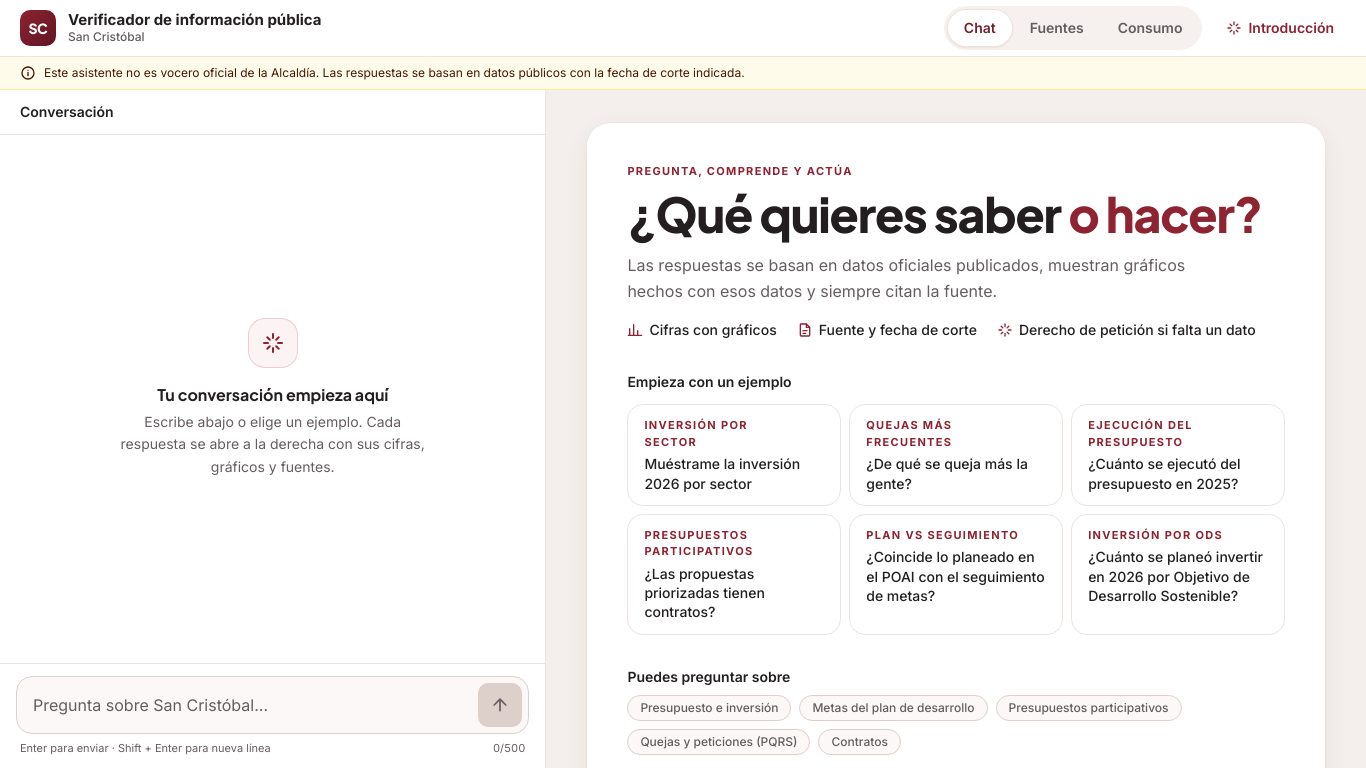
Test: Chat workspace on desktop › shows errors in the panel with a retry
Type "¿Y el presupuesto?" into the text box named "Escribe tu pregunta" at (252, 704), box [33,682,470,726]
Then press Enter
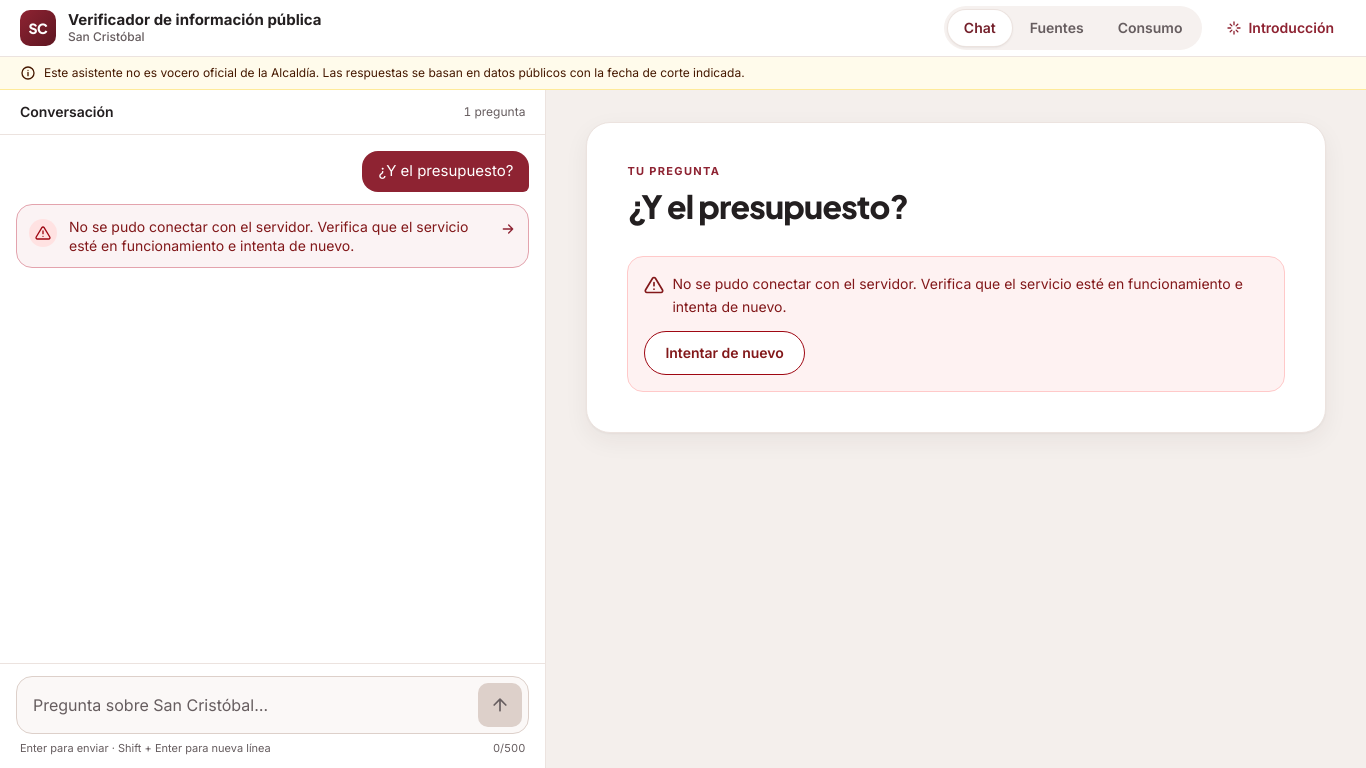
Now the text "No se pudo conectar con el servidor" below "Tu pregunta" is shown, box [672,275,1243,315]
Click the button "Intentar de nuevo" at (725, 353), box [644,331,805,375]
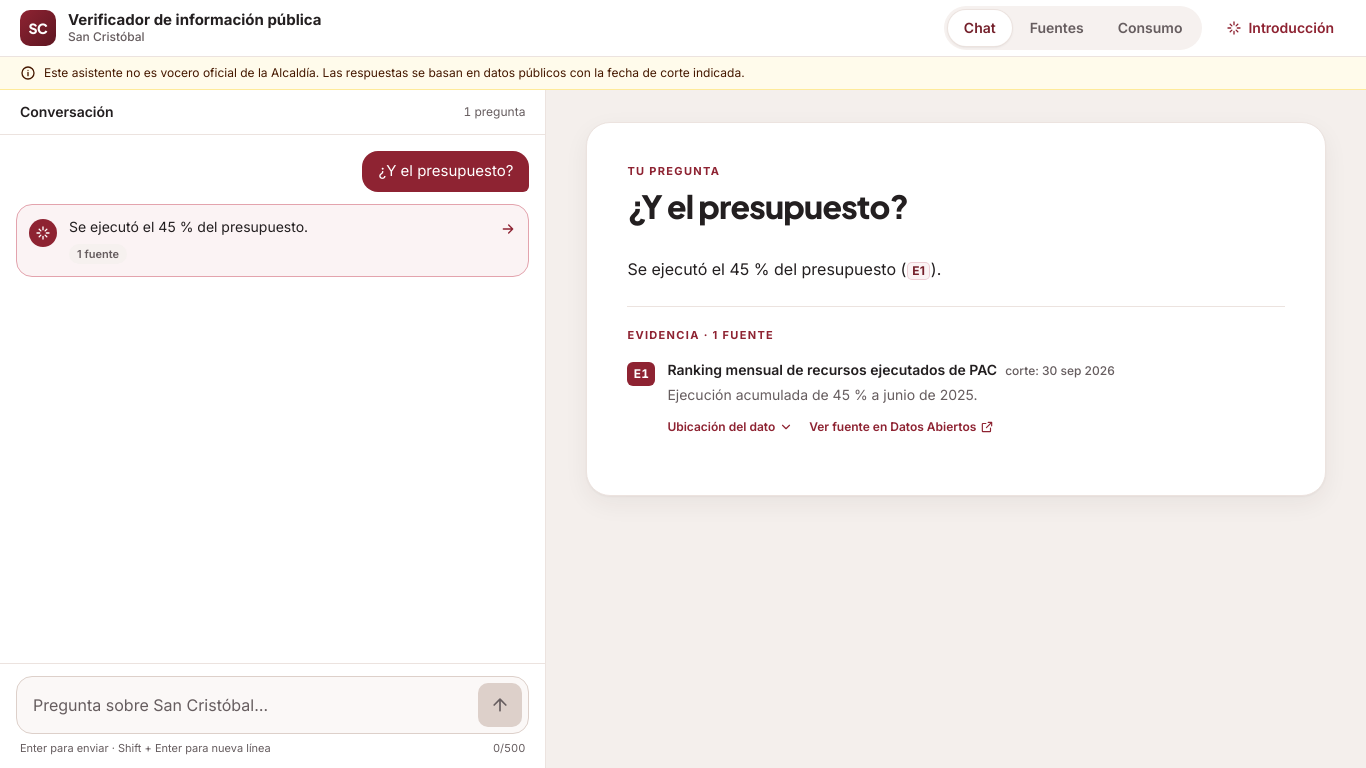
Now the text "Se ejecutó el 45 % del presupuesto ( E1 )." is shown, box [627,259,941,279]
Now the button "No se pudo conectar" is gone
